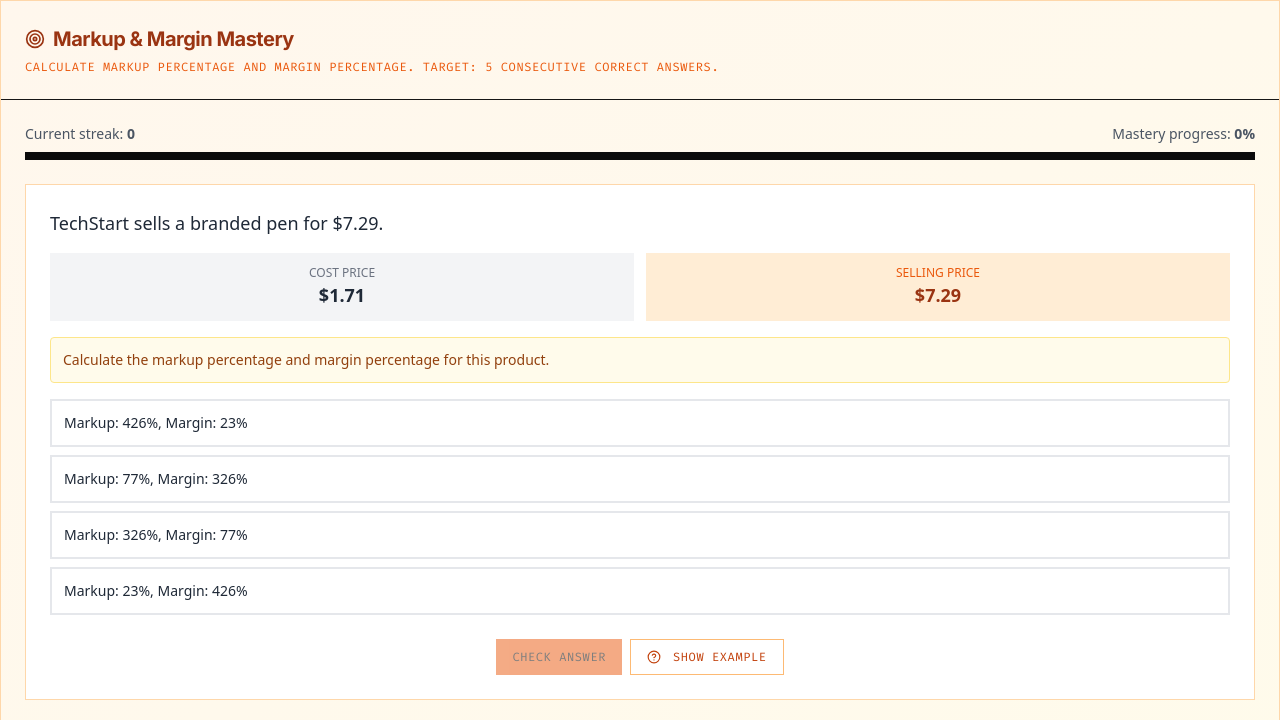
Test: MarkupMarginMastery › shows feedback after answer submission
The width and height of the screenshot is (1280, 720).
Step 1. Click the button "Markup: 426%, Margin: 23%" → point(156, 422), box top-left (50, 399), bottom-right (1230, 447)
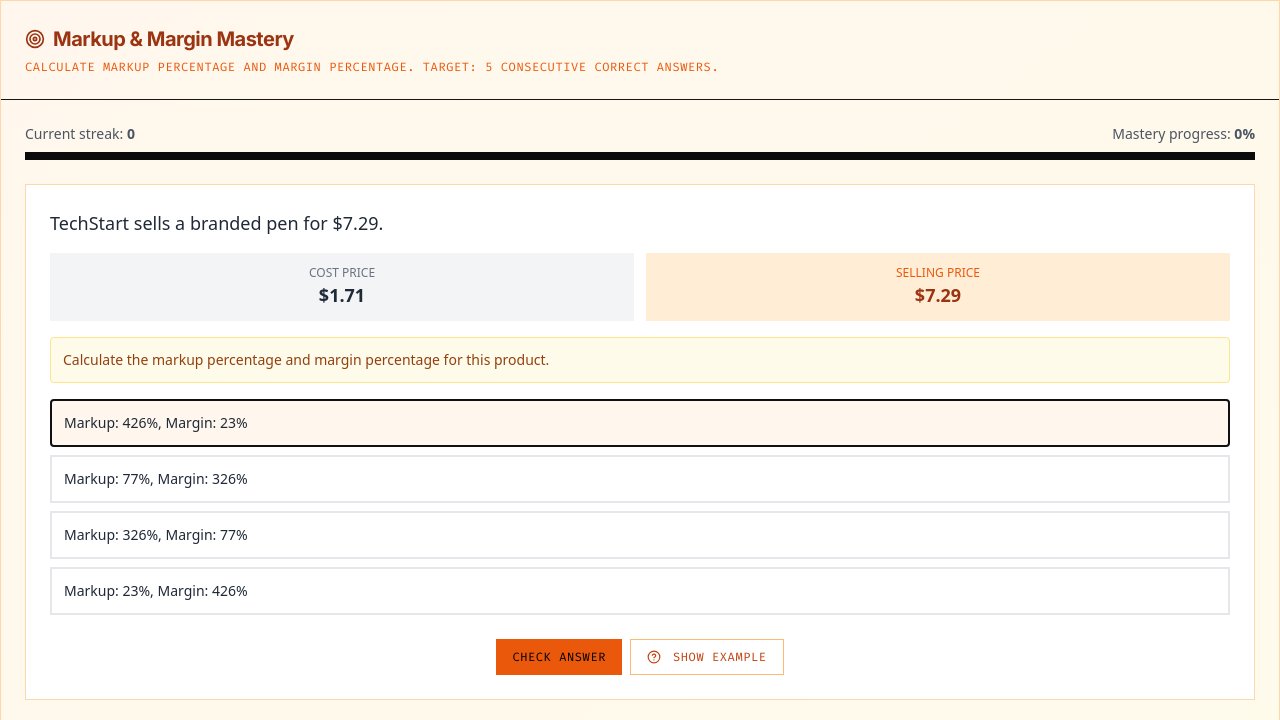
Step 2. Click the button "Check Answer" → point(559, 657), box top-left (496, 639), bottom-right (622, 675)
(page scrolled)
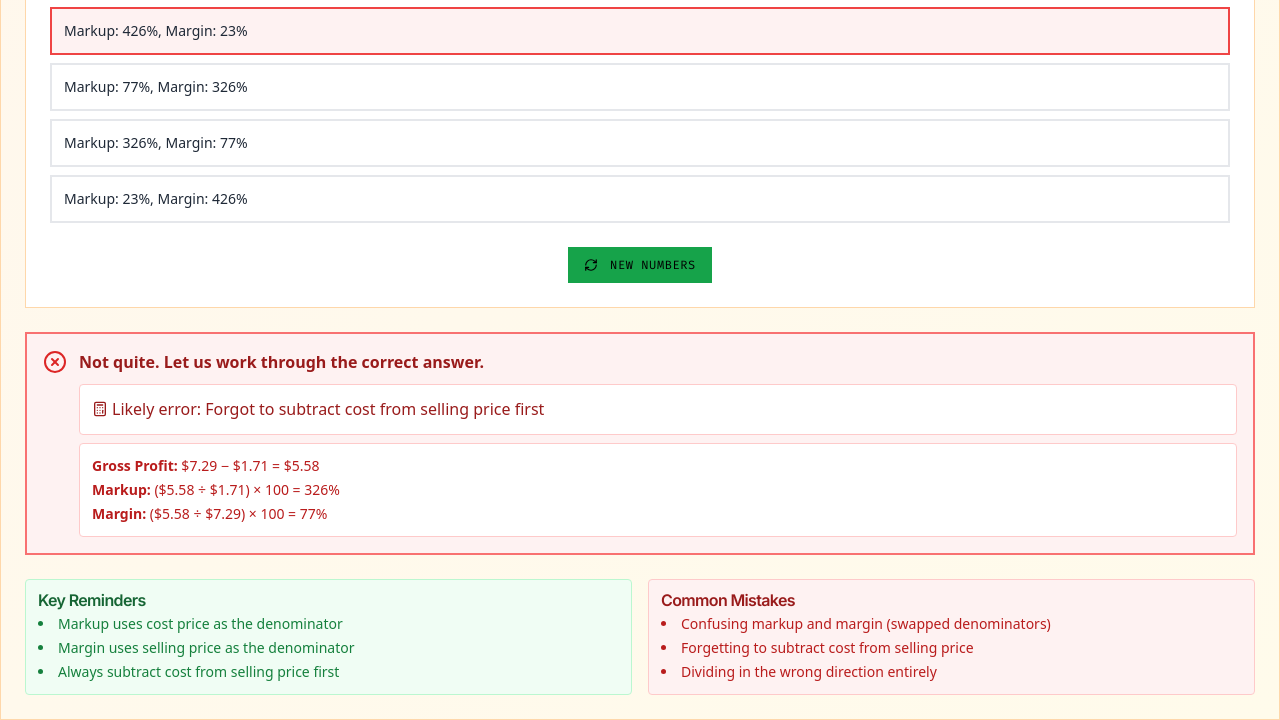
Expected: the text "Not quite. Let us work through the correct answer." is shown, top-left (79, 351), bottom-right (484, 373)
